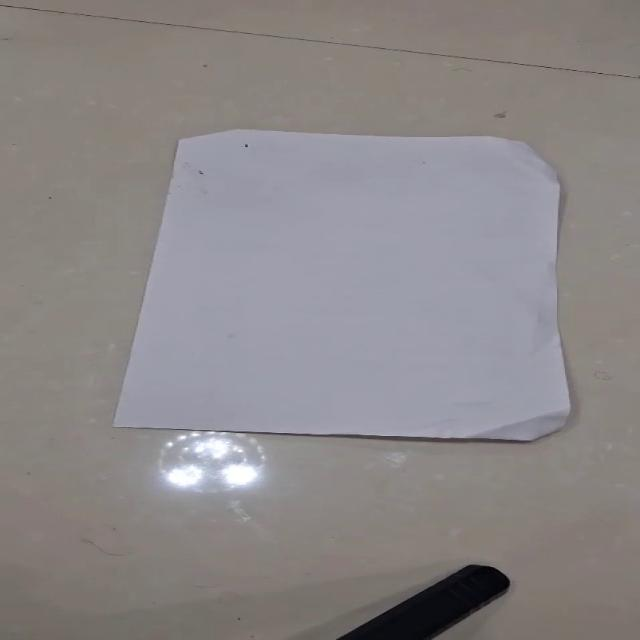paper: (110, 127, 572, 441)
